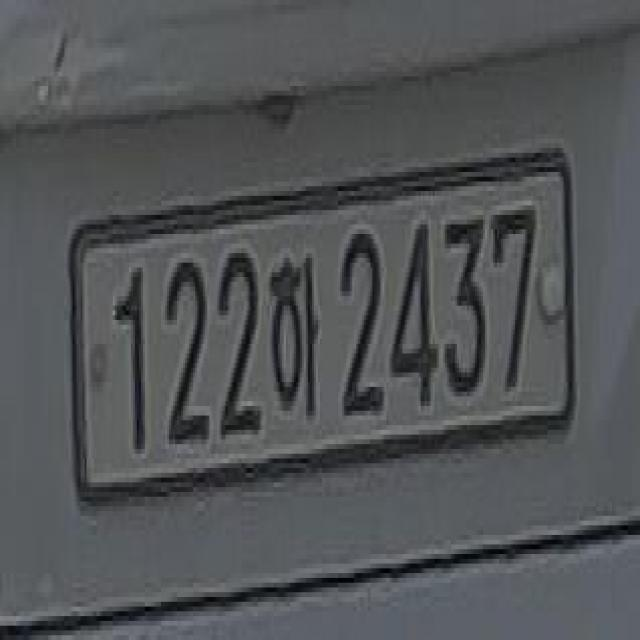illegal_plate: (71, 152, 572, 507)
